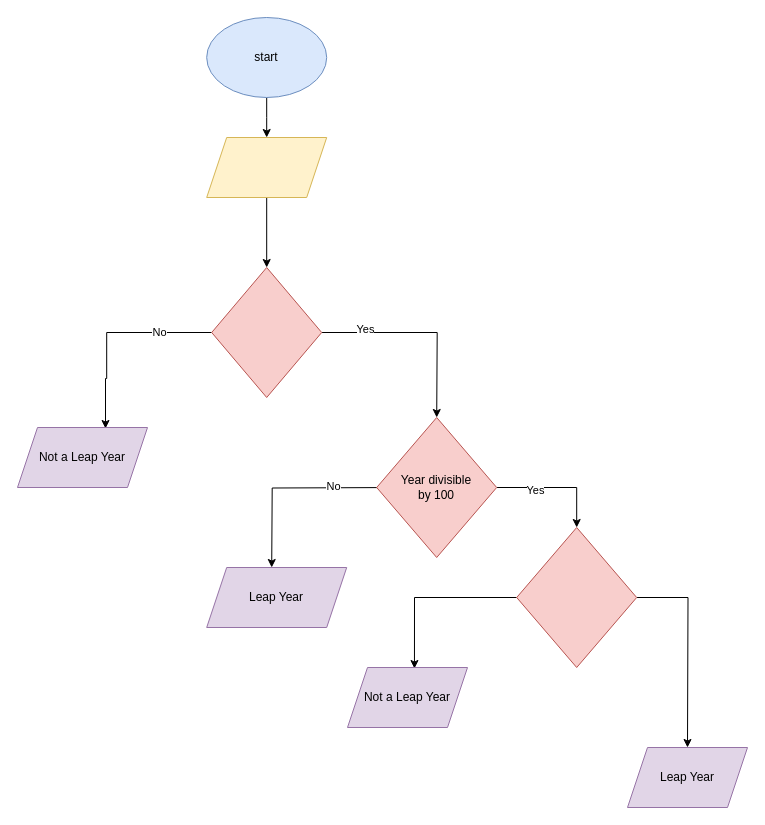
The diagram is 765 pixels wide and 825 high, and some of its shapes have lost their labels. The centre of each missing label's shape, as x and y in pixels:
"Read Year" goes at [266,167].
"Year Clearly divisible by 4" goes at [266,332].
"Year divisible by 400" goes at [576,597].
